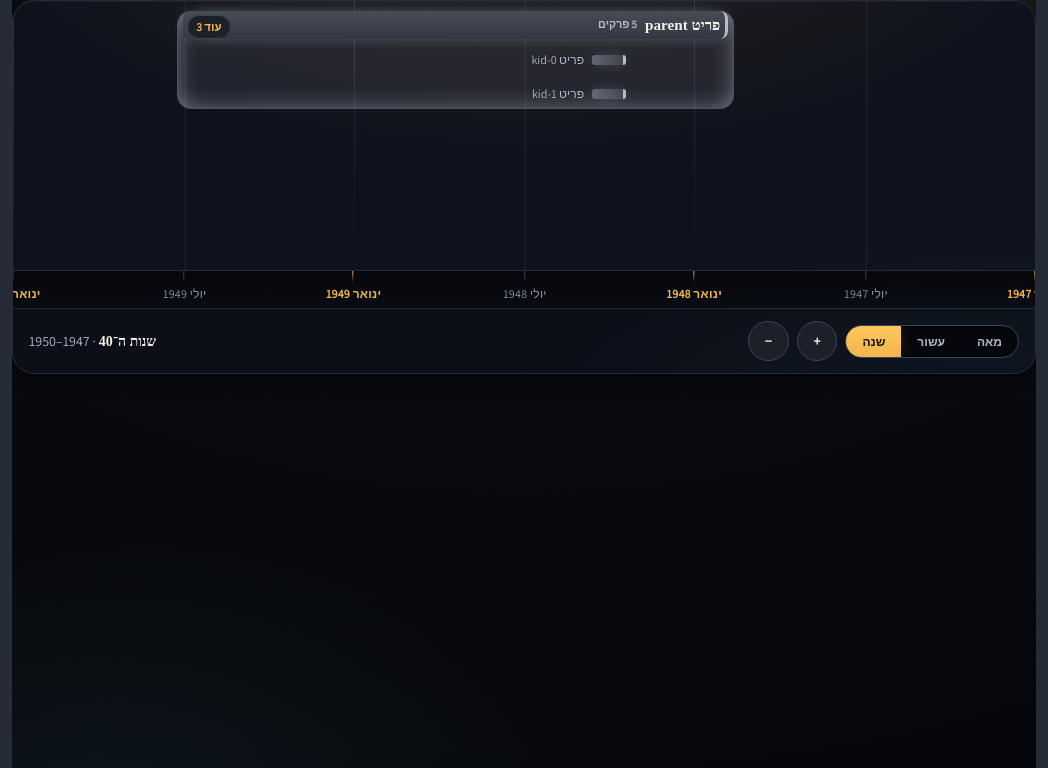
Test: Timeline › chapter fold: "עוד N" expands children in place without changing the window
Note: Collapsed: 2 child rows fit → 3 folded.
Click the button "עוד 3" at (209, 27), box left=187, top=15, right=231, bottom=39
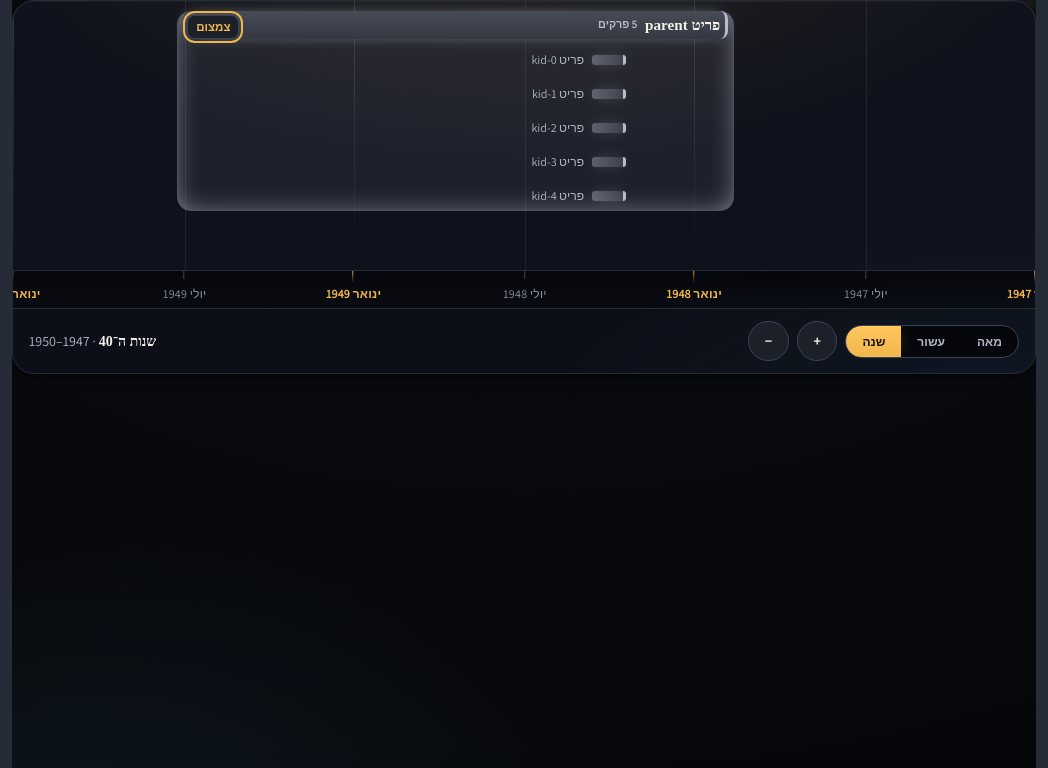
Now the number of buttons named "אירוע: פריט kid" is 5, box left=504, top=45, right=626, bottom=75; left=504, top=79, right=626, bottom=109; left=504, top=113, right=626, bottom=143; left=504, top=147, right=626, bottom=177; left=504, top=181, right=626, bottom=211
